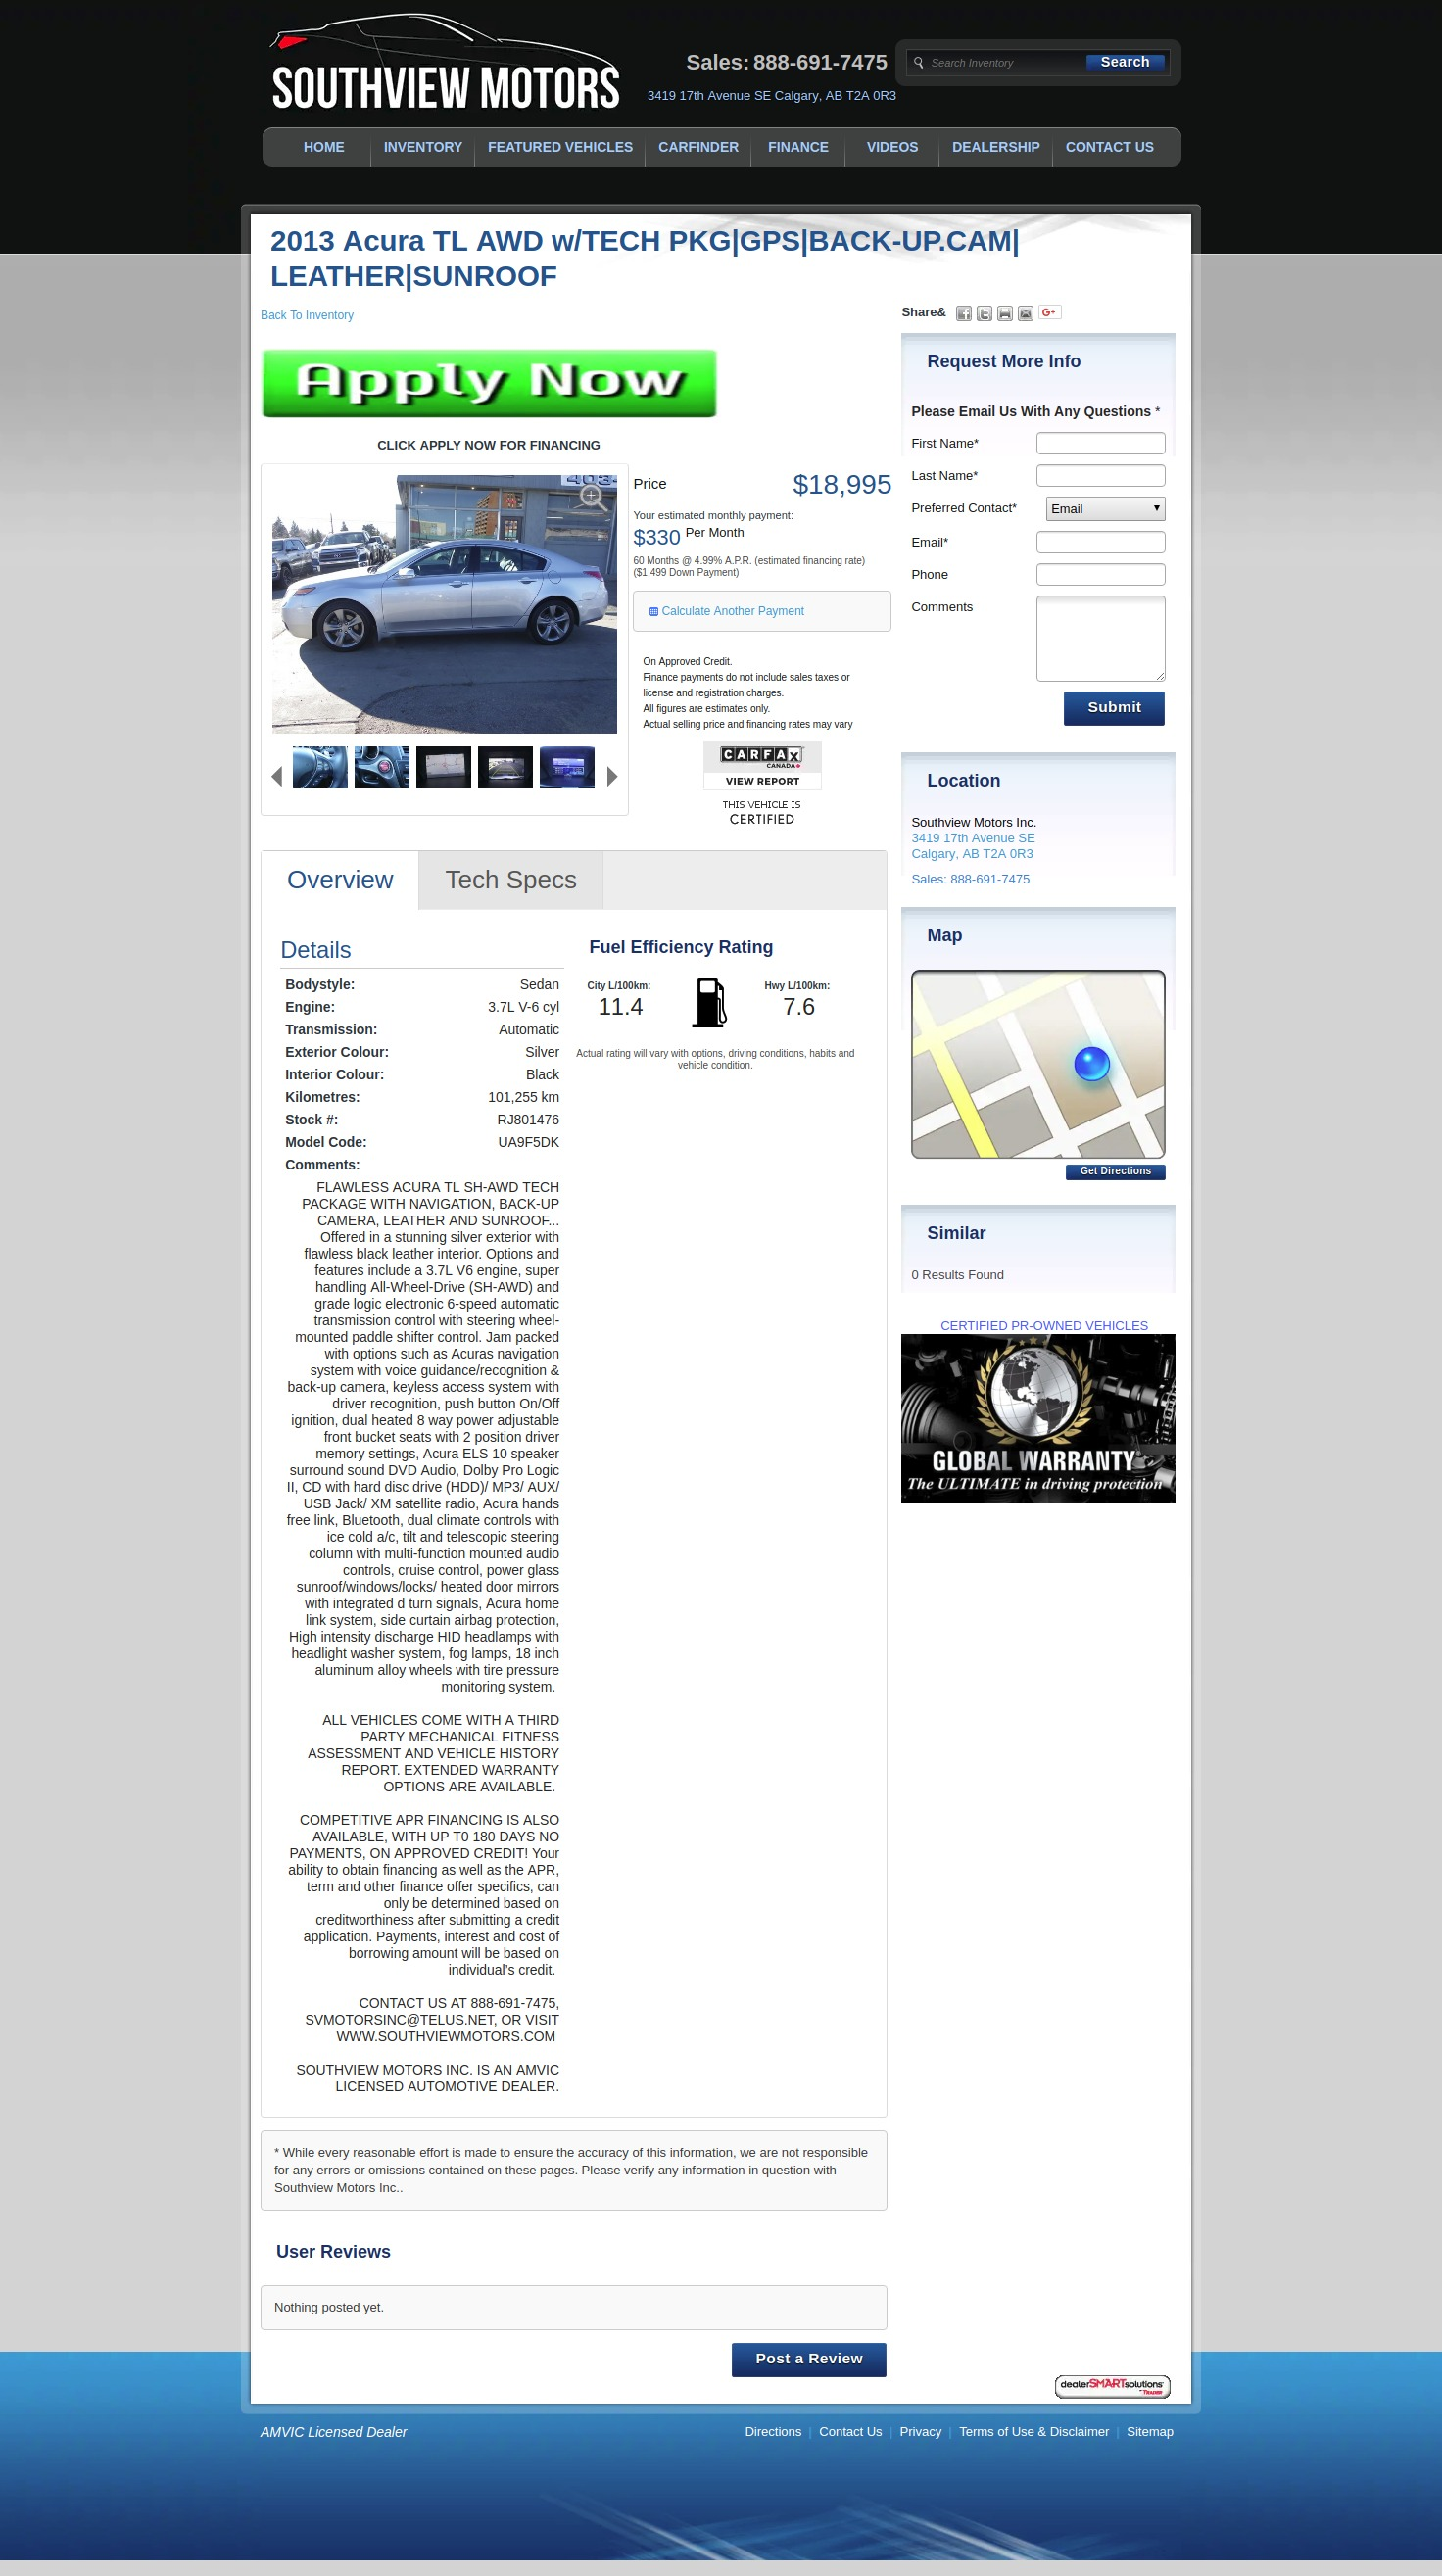car: (607, 766, 619, 789)
